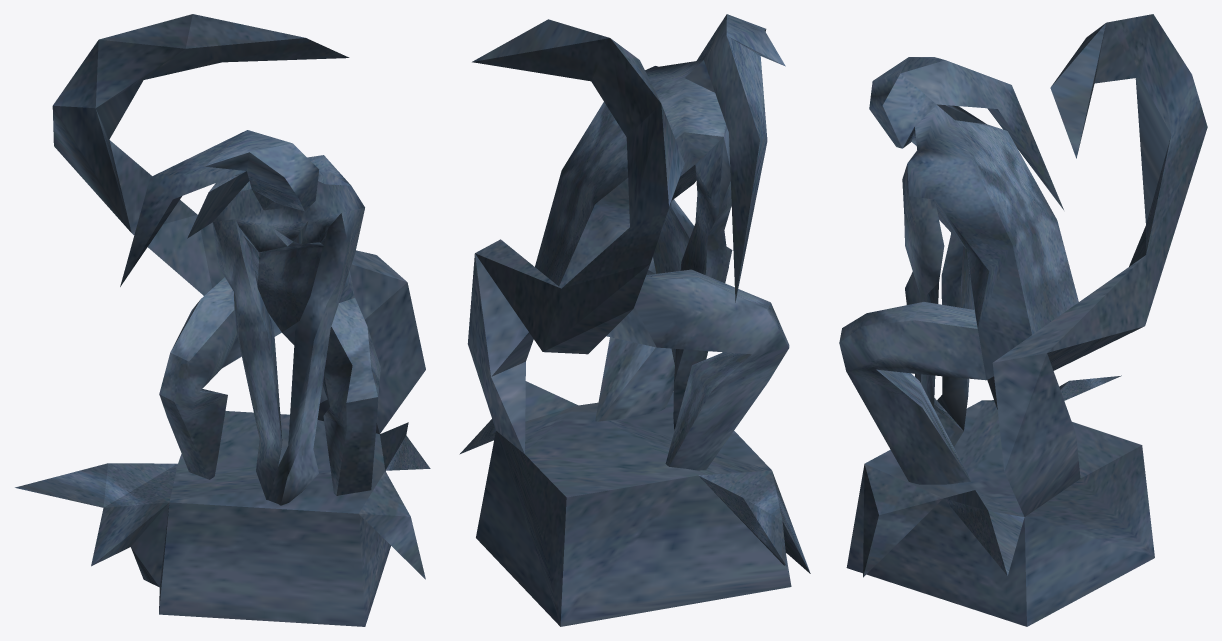
File: frn_all_decorative_lg_s1_l1.fbx
3 renders of one model, left to right at view 1: azimuth 30°, elevation 25°; view 2: azimuth 150°, elevation 25°; view 3: azimuth 270°, elevation 25°, orthographic. The views are drawn at different scales.
Parts seen in each view (by area): view 1: mesh_node; view 2: mesh_node; view 3: mesh_node.
Part boxes in pixels (bbox=[...]): mesh_node: bbox=[15, 14, 430, 626]; mesh_node: bbox=[459, 14, 810, 626]; mesh_node: bbox=[839, 14, 1207, 626].
Bounding box in the file's own units: 1.07 × 1.5 × 0.9556.
Materials: 1 (1 with a texture image).
